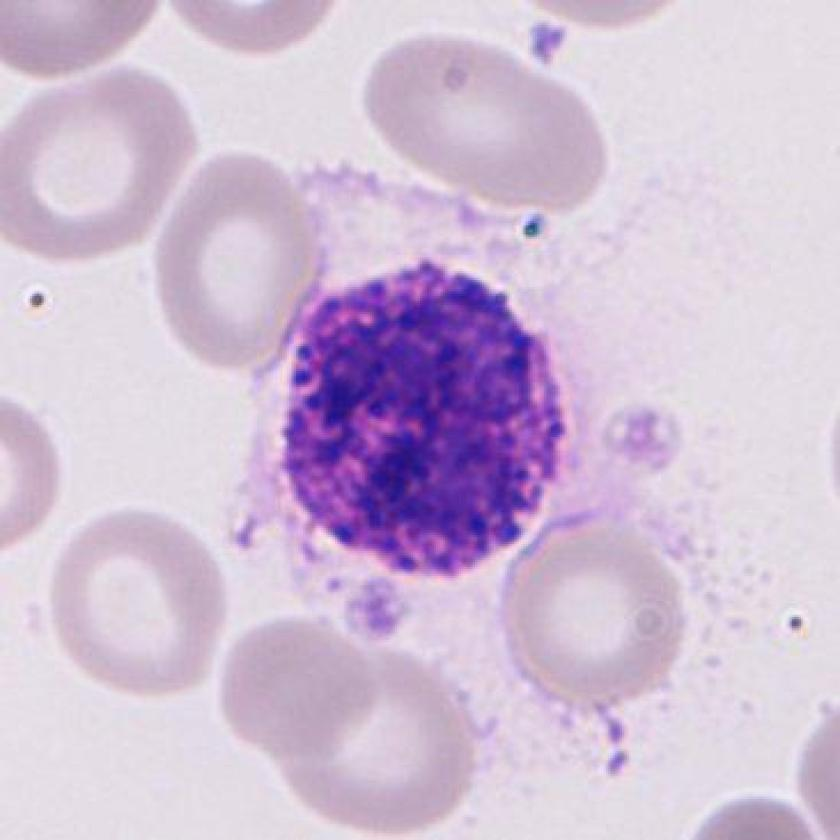basophil: (279, 258, 575, 586)
